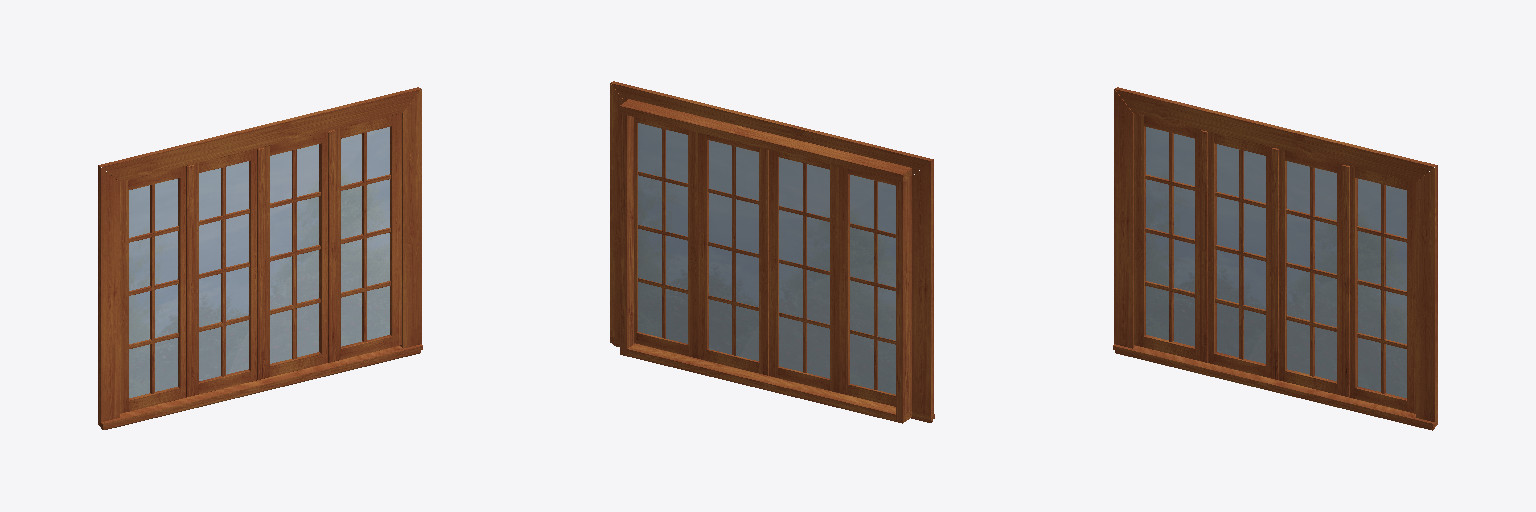
3 renders of one model, left to right at view 1: azimuth 30°, elevation 25°; view 2: azimuth 150°, elevation 25°; view 3: azimuth 330°, elevation 25°, orthographic.
Parts seen in each view (by area): view 1: glass002, glass001, glass003, glass004, trim_top, trim_left, trim_right, sill, window_right004, window_left001, window_right003, astragal002 (+20 smaller); view 2: glass002, glass003, glass004, glass001, trim_left, box_top, trim_top, sill, box_left, box_right, trim_right, window_right001 (+14 smaller); view 3: glass003, glass004, glass002, glass001, trim_top, trim_right, trim_left, sill, window_left001, window_right004, window_left002, astragal002 (+20 smaller).
Part boxes in pixels (bbox=[...]): glass002: bbox=[199, 161, 248, 380]; glass001: bbox=[129, 179, 177, 397]; glass003: bbox=[270, 144, 318, 363]; glass004: bbox=[341, 127, 389, 346]; trim_top: bbox=[99, 87, 420, 181]; trim_left: bbox=[98, 165, 119, 421]; trim_right: bbox=[400, 89, 421, 348]; sill: bbox=[98, 344, 422, 427]; window_right004: bbox=[390, 113, 401, 346]; window_left001: bbox=[120, 180, 128, 413]; window_right003: bbox=[319, 131, 328, 363]; astragal002: bbox=[257, 148, 264, 379]; glass002: bbox=[779, 157, 829, 378]; glass003: bbox=[709, 140, 758, 360]; glass004: bbox=[638, 123, 687, 343]; glass001: bbox=[850, 175, 895, 394]; trim_left: bbox=[912, 159, 933, 418]; box_top: bbox=[620, 99, 911, 181]; trim_top: bbox=[611, 81, 932, 175]; sill: bbox=[610, 337, 934, 422]; box_left: bbox=[896, 176, 911, 423]; box_right: bbox=[620, 114, 634, 355]; trim_right: bbox=[610, 83, 624, 338]; window_right001: bbox=[839, 167, 849, 394]; glass003: bbox=[1287, 161, 1336, 380]; glass004: bbox=[1358, 179, 1406, 397]; glass002: bbox=[1217, 144, 1265, 363]; glass001: bbox=[1146, 127, 1194, 346]; trim_top: bbox=[1115, 87, 1436, 181]; trim_right: bbox=[1416, 165, 1437, 426]; trim_left: bbox=[1114, 89, 1135, 348]; sill: bbox=[1113, 344, 1434, 427]; window_left001: bbox=[1134, 113, 1145, 346]; window_right004: bbox=[1407, 180, 1415, 413]; window_left002: bbox=[1207, 131, 1216, 363]; astragal002: bbox=[1271, 148, 1278, 379].
Size of the model in its own units: 68.77 by 54.09 by 5.
7 materials, 7 textured.